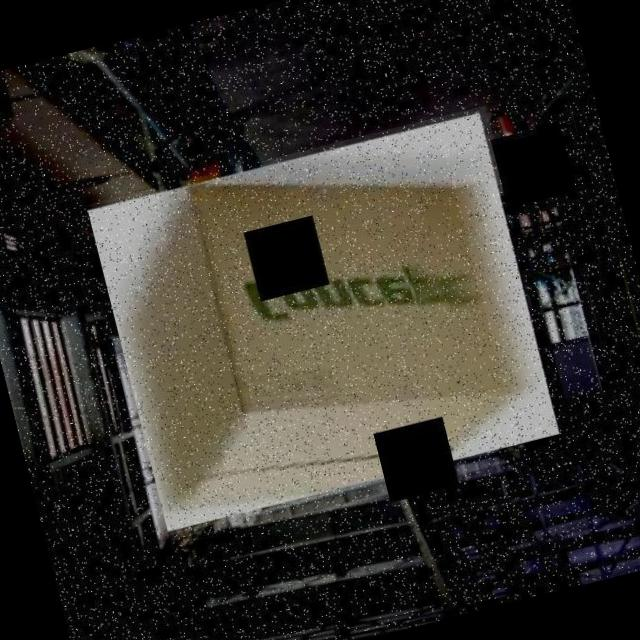box: (79, 104, 568, 537)
